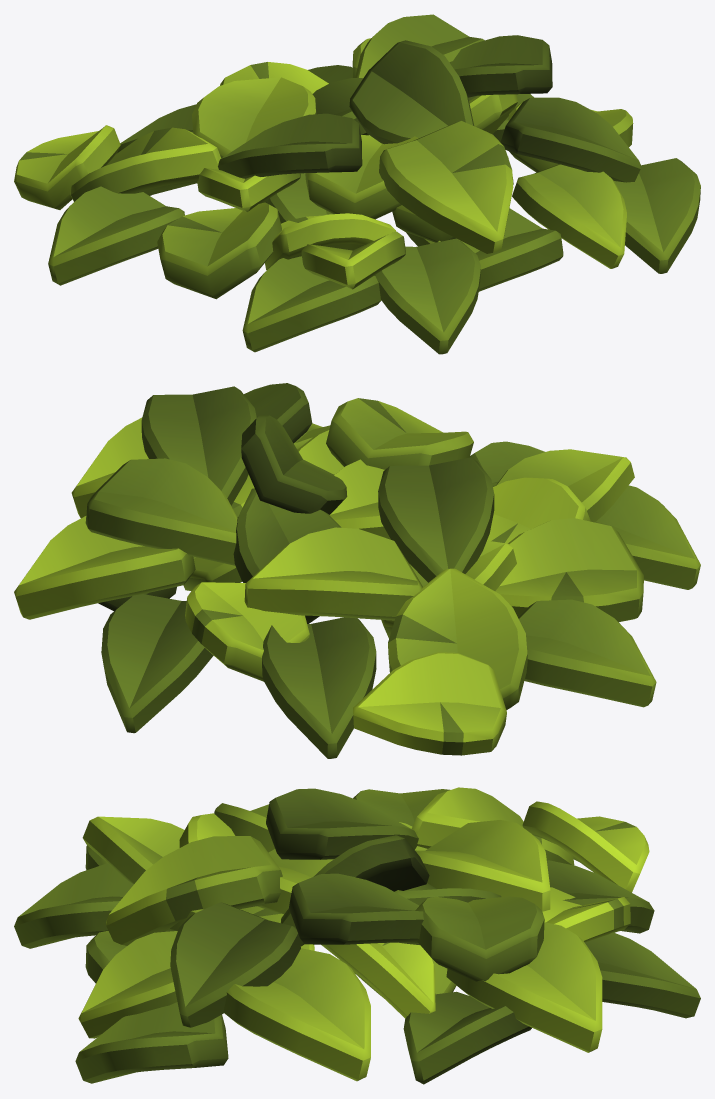
The model's file is leaves_pile_big_LOD_group.fbx.
3 renders of one model, top to bottom at view 1: azimuth 30°, elevation 25°; view 2: azimuth 150°, elevation 25°; view 3: azimuth 270°, elevation 25°, orthographic. The views are drawn at different scales.
Parts seen in each view (by area): view 1: leaves_pile_big_LOD0; view 2: leaves_pile_big_LOD0; view 3: leaves_pile_big_LOD0.
Part boxes in pixels (<box>): leaves_pile_big_LOD0: <box>14,14,700,354</box>; leaves_pile_big_LOD0: <box>14,383,700,758</box>; leaves_pile_big_LOD0: <box>14,787,700,1084</box>.
Size of what is drawn, in the model's own units: 296 by 89.6 by 292.
1 material, 1 textured.
